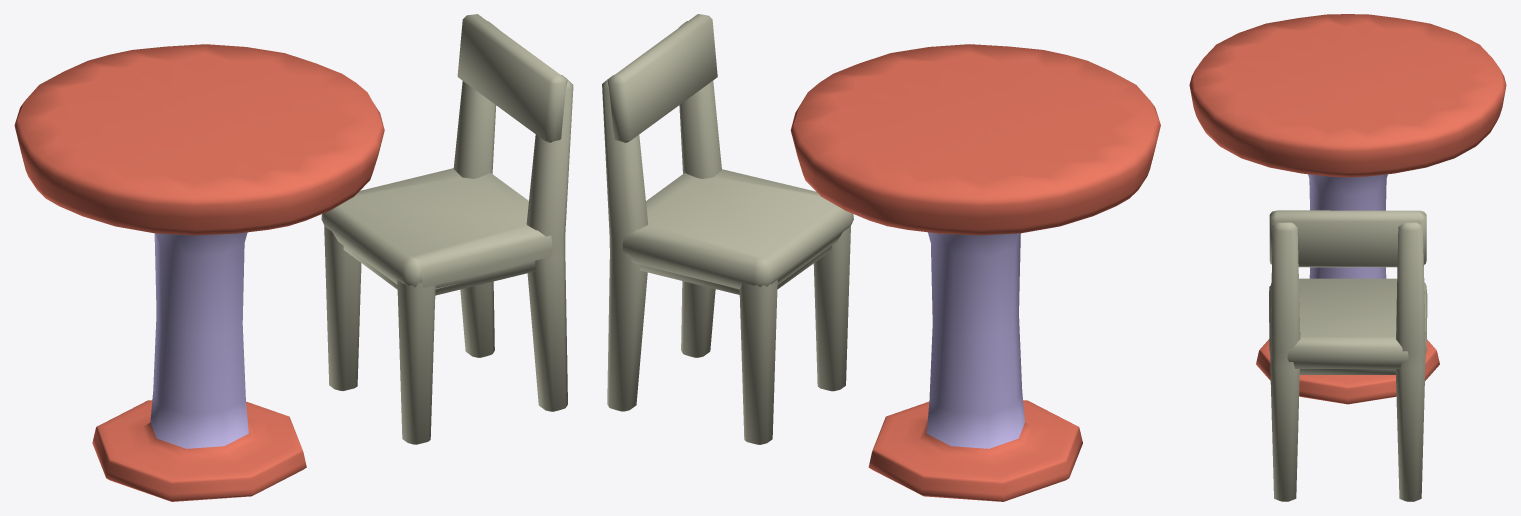
The model's file is TableAndChair.fbx.
The picture shows the model from 3 angles, left to right: view 1: azimuth 30°, elevation 25°; view 2: azimuth 150°, elevation 25°; view 3: azimuth 270°, elevation 25°; orthographic projection. The views are drawn at different scales.
Parts seen in each view (by area): view 1: Table, chair; view 2: Table, chair; view 3: Table, chair.
Part boxes in pixels (x1=…): Table: x1=14, y1=44, x2=384, y2=501; chair: x1=321, y1=14, x2=573, y2=444; Table: x1=790, y1=44, x2=1160, y2=501; chair: x1=602, y1=14, x2=853, y2=444; Table: x1=1189, y1=14, x2=1506, y2=404; chair: x1=1269, y1=210, x2=1427, y2=501.
Bounding box in the file's own units: 0.9986 × 0.6595 × 0.6502.
